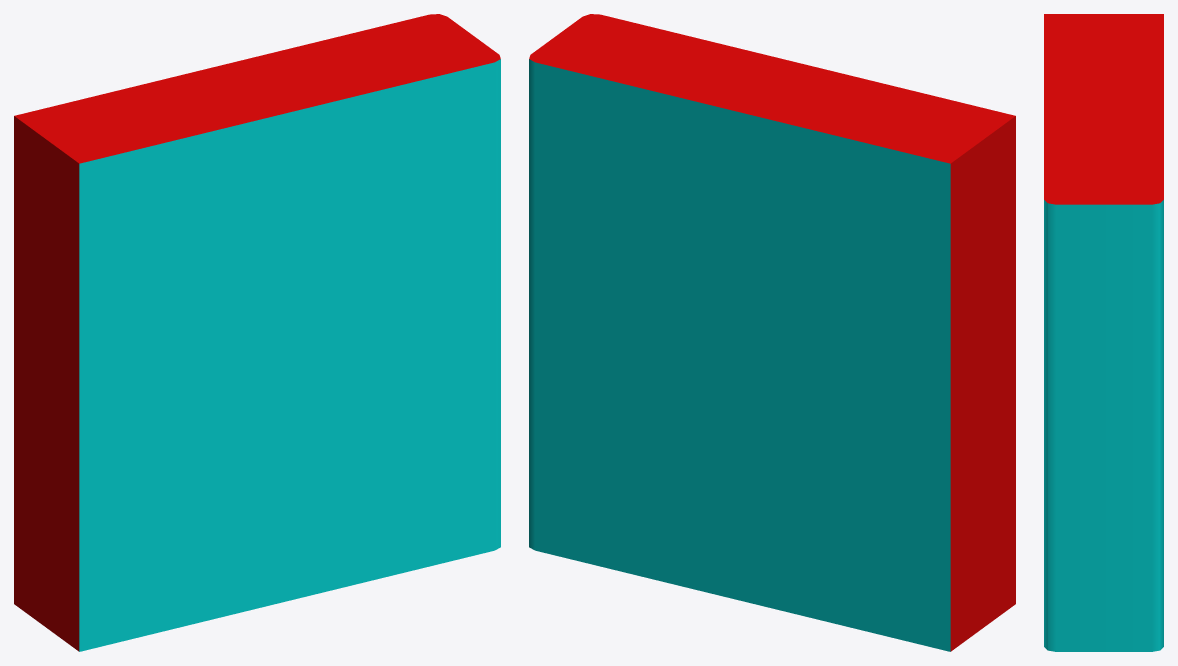
Rendered from Book.fbx.
The picture shows the model from 3 angles, left to right: view 1: azimuth 30°, elevation 25°; view 2: azimuth 150°, elevation 25°; view 3: azimuth 270°, elevation 25°; orthographic projection. The views are drawn at different scales.
Visible parts, largest first — view 1: Book1; view 2: Book1; view 3: Book1.
Part boxes in pixels (x1,y1,x2,y2): Book1: (14,14,500,651); Book1: (529,14,1015,651); Book1: (1044,14,1163,651).
Size of the model in its own units: 47.19 by 51.61 by 12.52.
